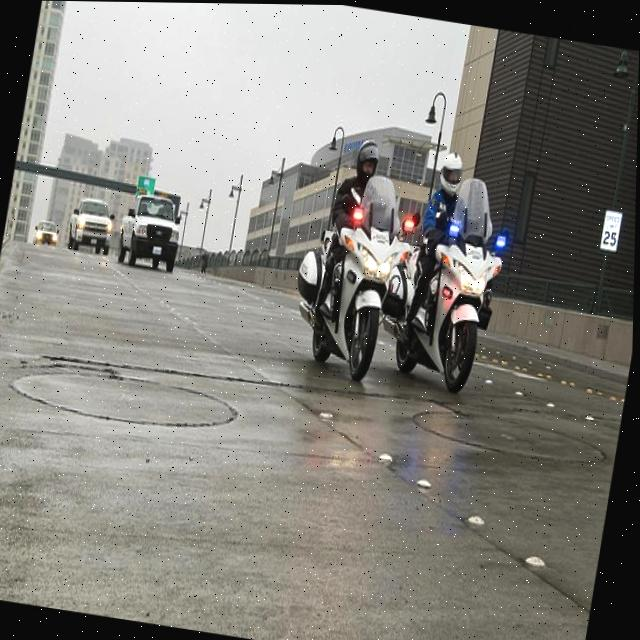car: (118, 178, 194, 273), (61, 186, 120, 256)
motorcycle: (285, 211, 414, 393), (383, 229, 509, 403)
